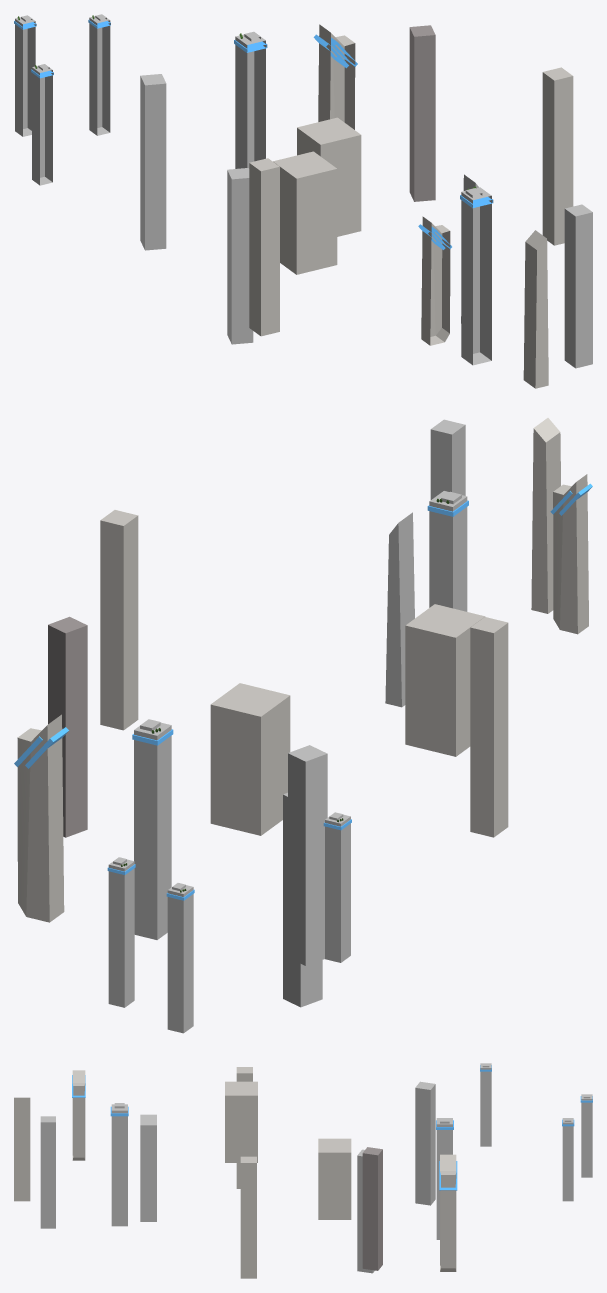
File: BGbuildings.fbx
3 views of the same model, one above another, from view 1: azimuth 30°, elevation 25°; view 2: azimuth 150°, elevation 25°; view 3: azimuth 270°, elevation 25° (orthographic). The views are drawn at different scales.
Parts seen in each view (by area): view 1: BR3__5_, BR3__19_, BR3__6_, BR3__14__1, BR3__24_, BR3__25_, BR3__8_, BR3__11_, BR3__26_, BR3__14_, BR3__20_, BR3__4__1 (+4 smaller); view 2: BR3__11_, BR3__5_, BR3__4_, BR3__6_, BR3__19_, BR3__25_, BR3__14_, BR3__24_, BR3__4__1, BR3__20_, BR3__21_, BR3__14__1 (+5 smaller); view 3: BR3__11_, BR3__5_, BR3__24_, BR3__25_, BR3__6_, BR3__14__1, BR3__4_, BR3__21_, BR3__8_, BR3__20_, BR3__4__1, BR3__14__2 (+5 smaller).
Boxes of the visible parts, box(x1,y1,x2,y2) form: BR3__5_: box(273, 151, 337, 274); BR3__19_: box(249, 158, 279, 336); BR3__6_: box(542, 67, 573, 245); BR3__14__1: box(461, 187, 491, 365); BR3__24_: box(409, 25, 435, 201); BR3__25_: box(140, 74, 166, 250); BR3__8_: box(564, 204, 592, 368); BR3__11_: box(297, 117, 361, 236); BR3__26_: box(227, 168, 253, 344); BR3__14_: box(235, 34, 265, 168); BR3__20_: box(523, 230, 548, 388); BR3__4__1: box(421, 216, 450, 345); BR3__11_: box(210, 683, 290, 835); BR3__5_: box(405, 604, 485, 756); BR3__4_: box(17, 714, 64, 922); BR3__6_: box(100, 510, 138, 730); BR3__19_: box(470, 617, 508, 837); BR3__25_: box(288, 745, 327, 965); BR3__14_: box(134, 722, 171, 939); BR3__24_: box(48, 616, 87, 837); BR3__4__1: box(553, 474, 588, 634); BR3__20_: box(531, 418, 560, 613); BR3__21_: box(385, 512, 414, 707); BR3__14__1: box(429, 491, 467, 611); BR3__11_: box(318, 1138, 351, 1219); BR3__5_: box(225, 1081, 257, 1162); BR3__24_: box(362, 1147, 382, 1270); BR3__25_: box(415, 1081, 435, 1205); BR3__6_: box(240, 1156, 256, 1278); BR3__14__1: box(111, 1104, 127, 1226); BR3__4_: box(440, 1154, 456, 1271); BR3__21_: box(140, 1114, 156, 1221); BR3__8_: box(40, 1116, 55, 1228); BR3__20_: box(14, 1097, 30, 1201); BR3__4__1: box(72, 1070, 85, 1160); BR3__14__2: box(480, 1063, 491, 1146).
Size of the model in its own units: 139014 by 100733 by 274788.
